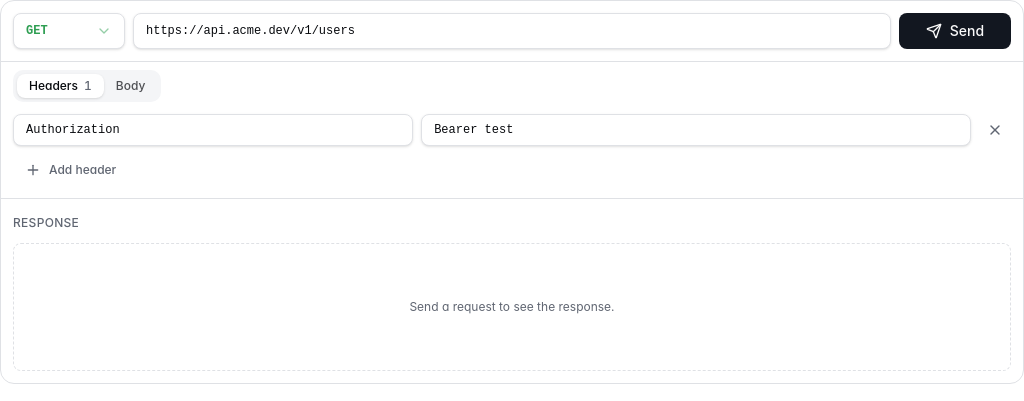
ApiRequestPlayground › sends the request and renders status, latency and pretty JSON
This screenshot has width=1024, height=401.
Click the button "Send" at [955, 31], box [899, 13, 1011, 49]
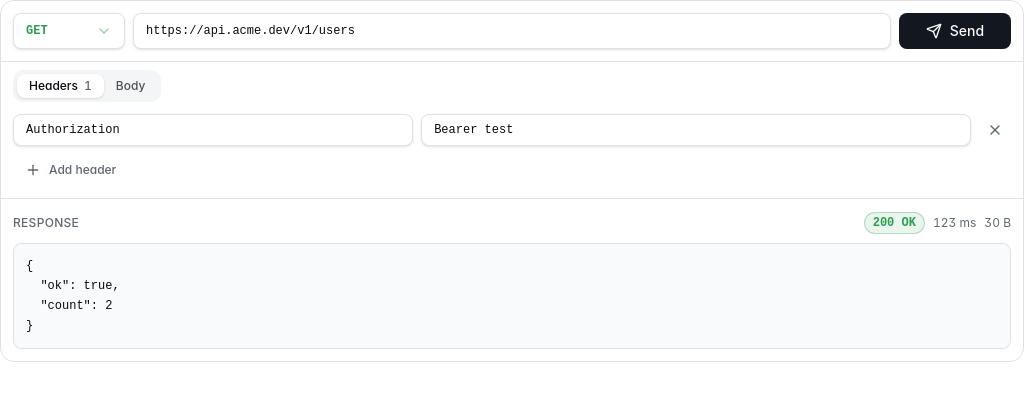
Result: the text "200 OK" is shown at [864, 212, 925, 234]
Result: the text "123 ms" is shown at [933, 215, 976, 231]
